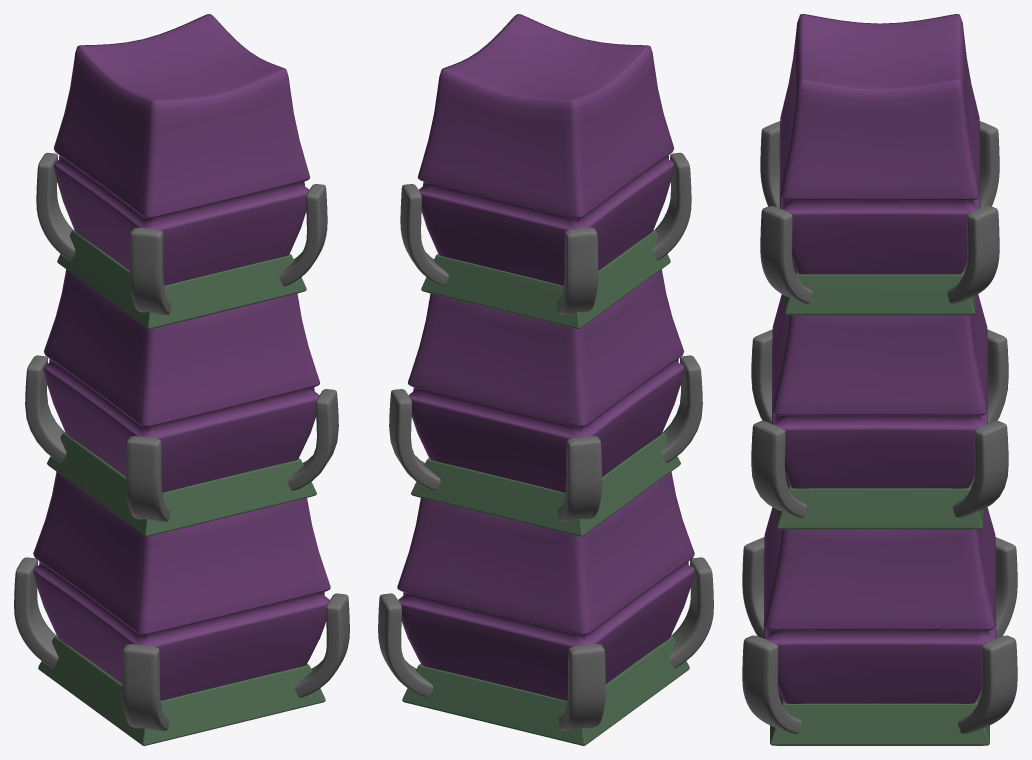
File: SM_Building4.fbx
3 views of the same model, side by side, from view 1: azimuth 30°, elevation 25°; view 2: azimuth 150°, elevation 25°; view 3: azimuth 270°, elevation 25° (orthographic). The views are drawn at different scales.
Visible parts, largest first — view 1: SM_Building04, SM_Building04.002, SM_Building04.001; view 2: SM_Building04, SM_Building04.002, SM_Building04.001; view 3: SM_Building04, SM_Building04.001, SM_Building04.002.
Boxes of the visible parts, bbox=[...] form: SM_Building04: bbox=[33, 14, 330, 700]; SM_Building04.002: bbox=[38, 229, 325, 745]; SM_Building04.001: bbox=[14, 152, 349, 730]; SM_Building04: bbox=[397, 14, 694, 700]; SM_Building04.002: bbox=[402, 229, 689, 745]; SM_Building04.001: bbox=[378, 152, 713, 730]; SM_Building04: bbox=[763, 14, 996, 703]; SM_Building04.001: bbox=[742, 121, 1017, 734]; SM_Building04.002: bbox=[770, 261, 989, 745].
Bounding box in the file's own units: 25.81 × 68.51 × 26.09.
